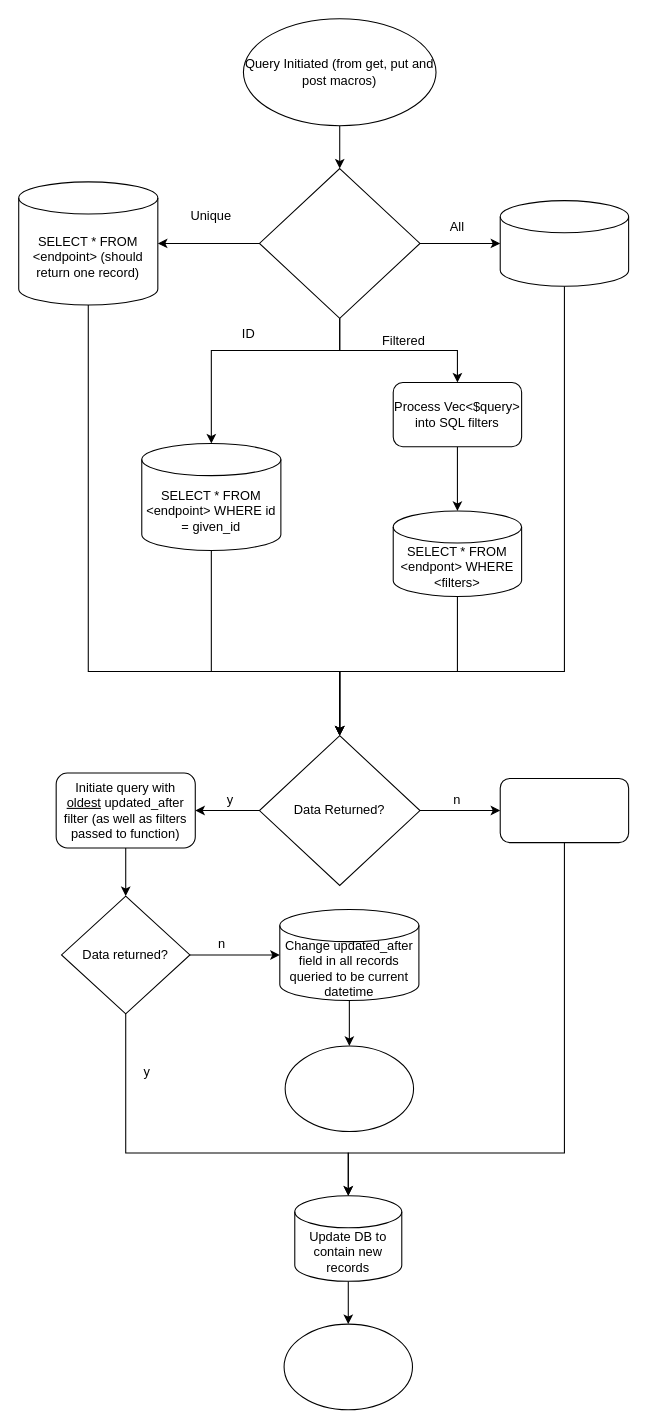
This 647x1428 diagram has some shape labels left out. Each missing label, with the centre of its shape:
"Initiate query with filters passed to function (if any)" belongs at (564,810).
"Return cached results" belongs at (349,1088).
"Return query results" belongs at (347,1366).
"SELECT * FROM <endpoint>" belongs at (564,243).
"Unique/ID/Filtered/All query?" belongs at (339,242).
